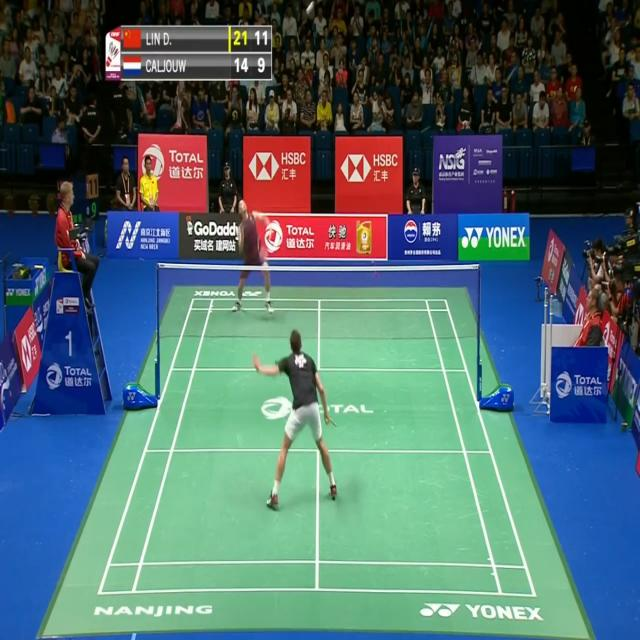Player1: (249, 327, 341, 525)
Player2: (227, 197, 277, 319)
